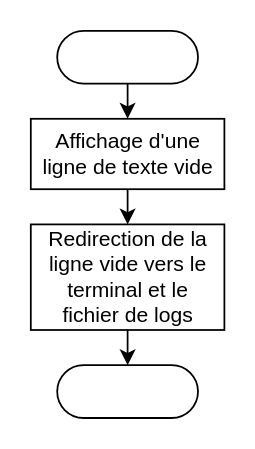
The diagram is 255 pixels wide and 449 high, and some of its shapes have lost their labels. Each missing label, with the centre of its shape:
Début: the point at 126,56
Fin: the point at 126,390
